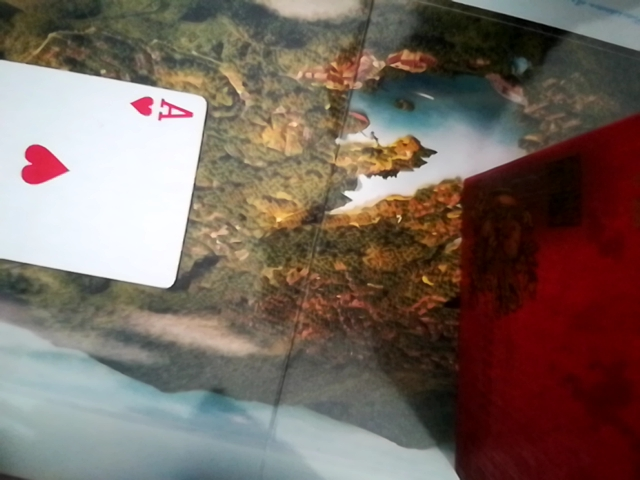hx a: (1, 44, 205, 287)
